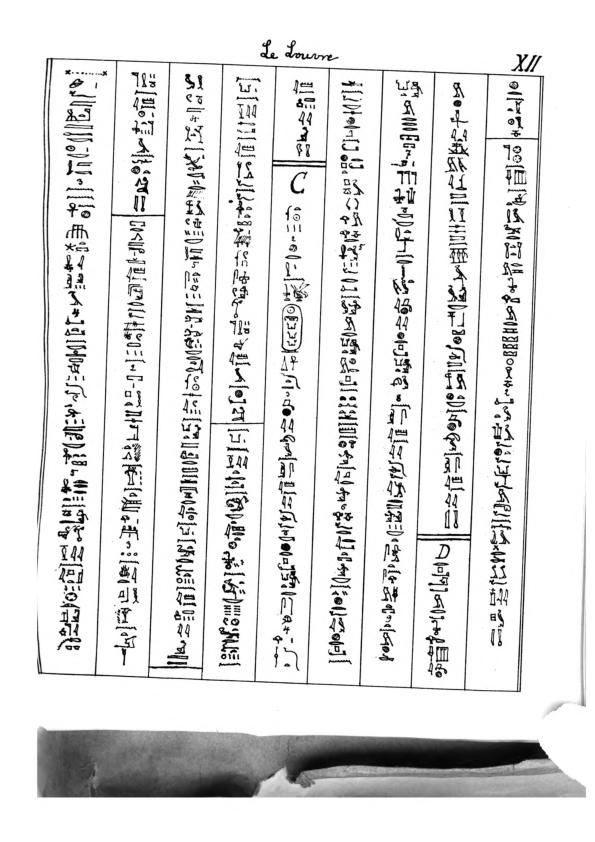circle: (278, 301, 305, 354)
